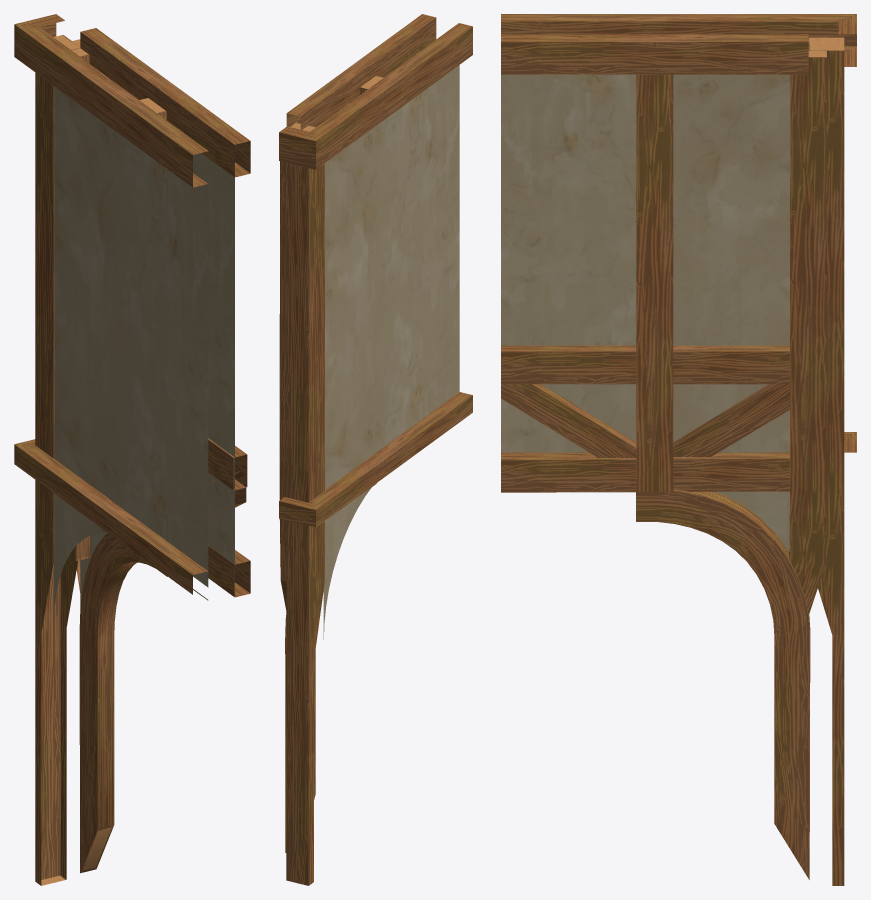
The model's file is Overhang_Side_Plaster_Long_R.gltf.
3 renders of one model, left to right at view 1: azimuth 30°, elevation 25°; view 2: azimuth 150°, elevation 25°; view 3: azimuth 270°, elevation 25°, orthographic. The views are drawn at different scales.
Visible parts, largest first — view 1: Overhang_Side_Plaster_Long_R; view 2: Overhang_Side_Plaster_Long_R; view 3: Overhang_Side_Plaster_Long_R.
Boxes of the visible parts, left/top/right/bottom form: Overhang_Side_Plaster_Long_R: left=14, top=14, right=250, bottom=885; Overhang_Side_Plaster_Long_R: left=279, top=14, right=472, bottom=885; Overhang_Side_Plaster_Long_R: left=501, top=14, right=856, bottom=885.
Size of the model in its own units: 0.4793 by 6.12 by 2.31.
2 materials, 2 textured.
